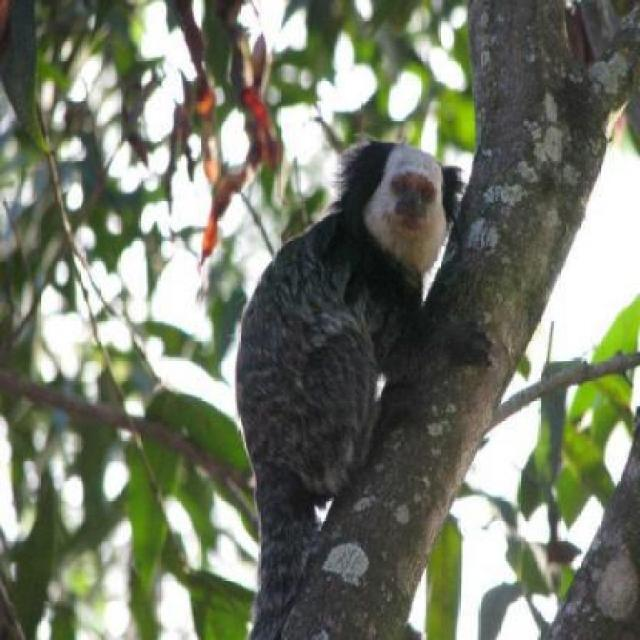Monkey: (258, 77, 472, 638)
